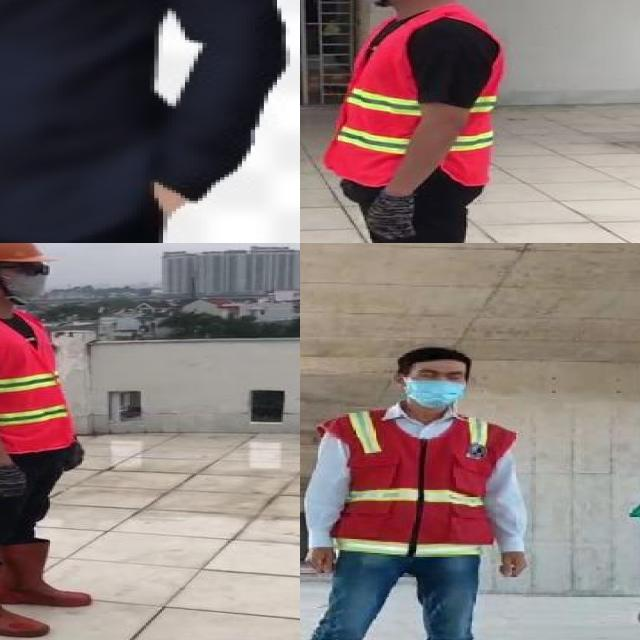boots: (8, 537, 94, 608), (0, 556, 50, 640)
face_mask: (406, 364, 466, 408), (4, 259, 52, 299)
glasses: (6, 260, 56, 280)
hand_glove: (363, 190, 420, 242), (0, 465, 34, 502)
hand_noglove: (490, 545, 534, 581), (300, 541, 339, 577)
head_helmet: (0, 243, 46, 268)
head_nohelmet: (394, 342, 480, 376)
person: (300, 335, 527, 640), (300, 0, 525, 243), (0, 243, 103, 637)
vest: (320, 10, 505, 187), (318, 408, 514, 558), (0, 306, 73, 455)
